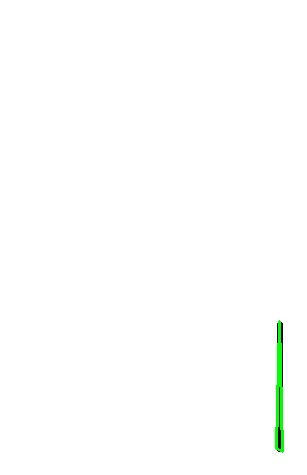line_segment: (276, 321, 284, 452)
